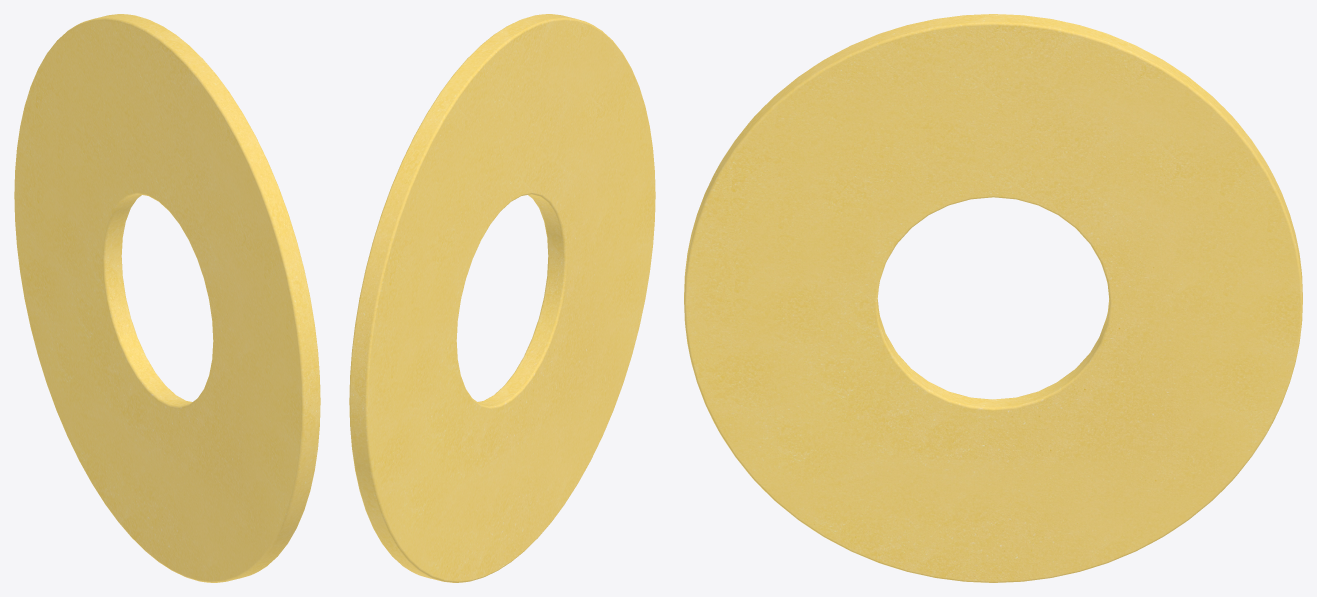
The picture shows the model from 3 angles, left to right: view 1: azimuth 30°, elevation 25°; view 2: azimuth 150°, elevation 25°; view 3: azimuth 270°, elevation 25°; orthographic projection. The views are drawn at different scales.
Visible parts, largest first — view 1: object_1; view 2: object_1; view 3: object_1.
Boxes of the visible parts, <box> form: object_1: <box>14,14,320,582</box>; object_1: <box>349,14,655,582</box>; object_1: <box>684,14,1302,582</box>.
Bounding box in the file's own units: 0.18 × 4.8 × 4.8.
1 material, 1 textured.
